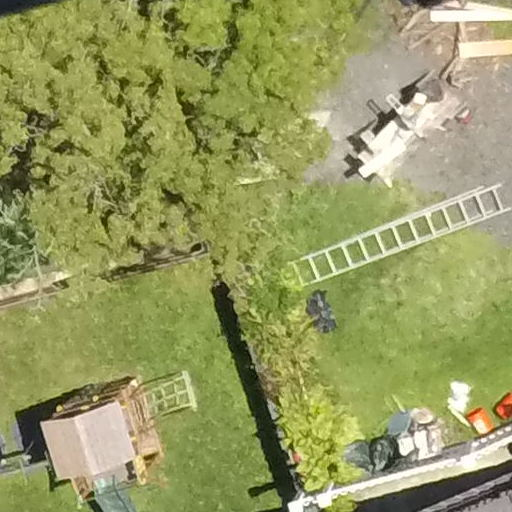bucket: (491, 384, 512, 428), (461, 409, 493, 433)
clutter: (353, 403, 454, 483)
ladder: (280, 177, 507, 319)
